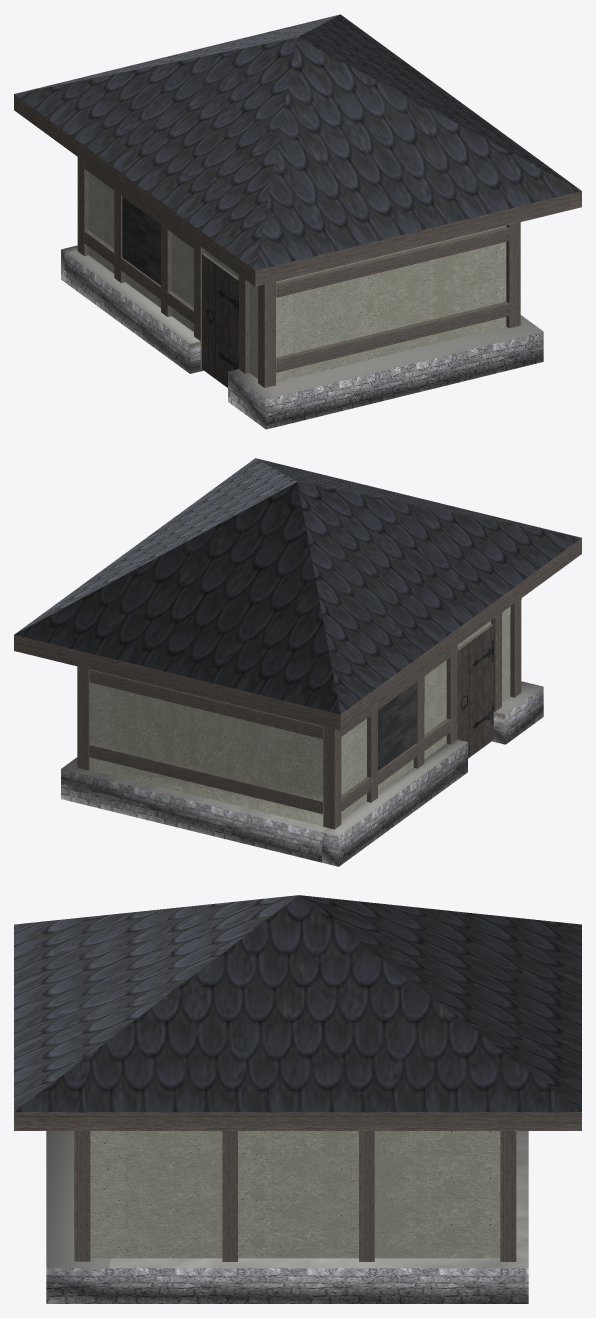
Rendered from Storage Hut.fbx.
The picture shows the model from 3 angles, top to bottom: view 1: azimuth 30°, elevation 25°; view 2: azimuth 150°, elevation 25°; view 3: azimuth 270°, elevation 25°; orthographic projection. The views are drawn at different scales.
Visible parts, largest first — view 1: Outside storage; view 2: Outside storage; view 3: Outside storage.
Boxes of the visible parts, <box> form: Outside storage: <box>14,14,581,429</box>; Outside storage: <box>14,458,581,866</box>; Outside storage: <box>14,895,581,1303</box>.
Bounding box in the file's own units: 2117 × 1736 × 2710.
1 material, 1 textured.
